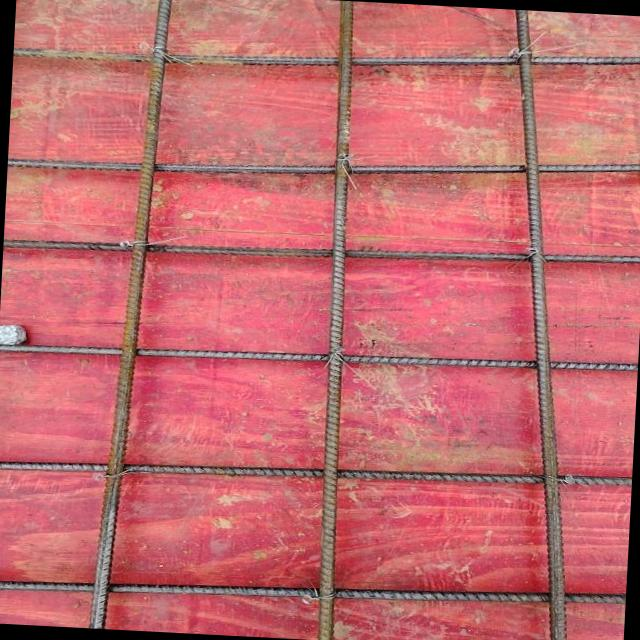ribbed bar: (480, 9, 603, 640), (90, 0, 174, 630), (8, 129, 640, 204), (14, 23, 640, 95), (0, 560, 626, 623), (310, 1, 370, 640), (4, 221, 640, 281), (0, 443, 632, 503), (0, 329, 638, 384)
